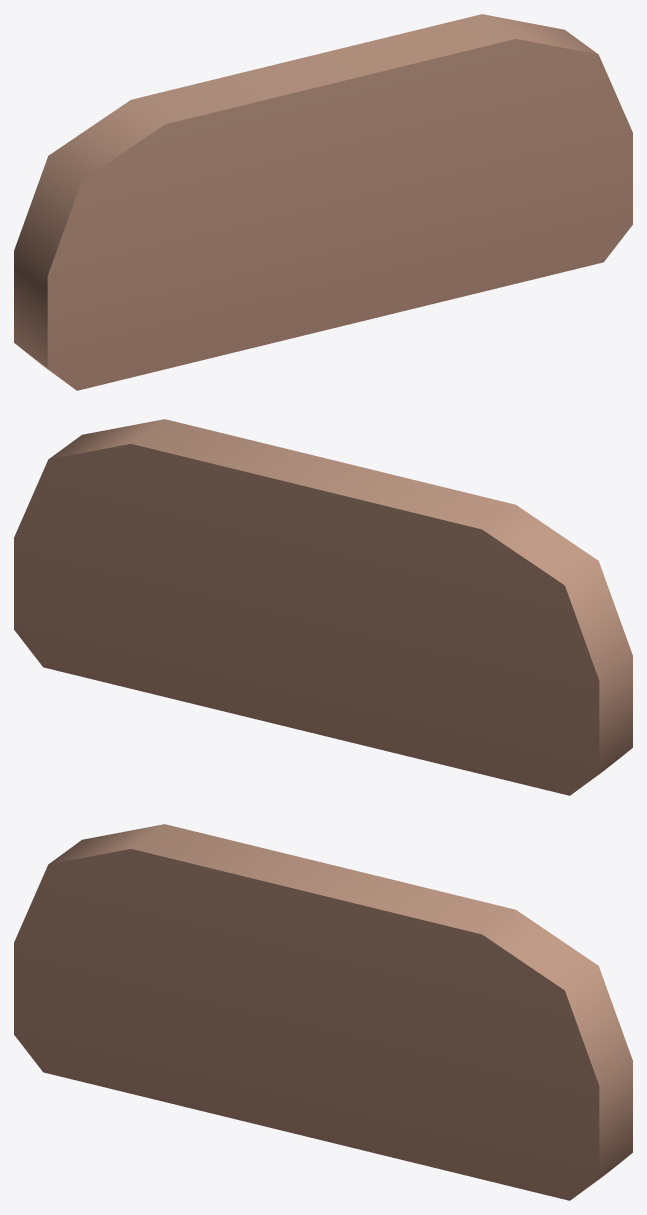
The model's file is plank-small-a.glb.
3 views of the same model, one above another, from view 1: azimuth 30°, elevation 25°; view 2: azimuth 150°, elevation 25°; view 3: azimuth 330°, elevation 25° (orthographic).
Visible parts, largest first — view 1: plank-small-a; view 2: plank-small-a; view 3: plank-small-a.
Boxes of the visible parts, <box> form: plank-small-a: <box>14,14,632,390</box>; plank-small-a: <box>14,419,632,795</box>; plank-small-a: <box>14,824,632,1200</box>.
Bounding box in the file's own units: 0.5 × 0.2 × 0.05.
